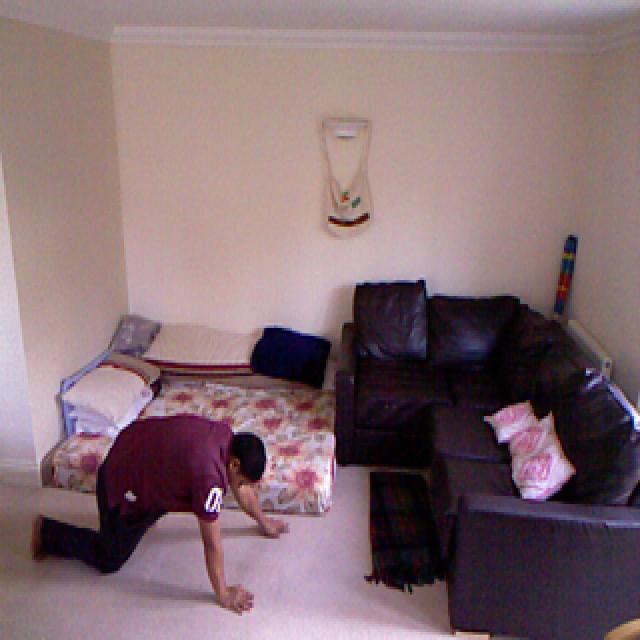Fall: (20, 386, 296, 628)
